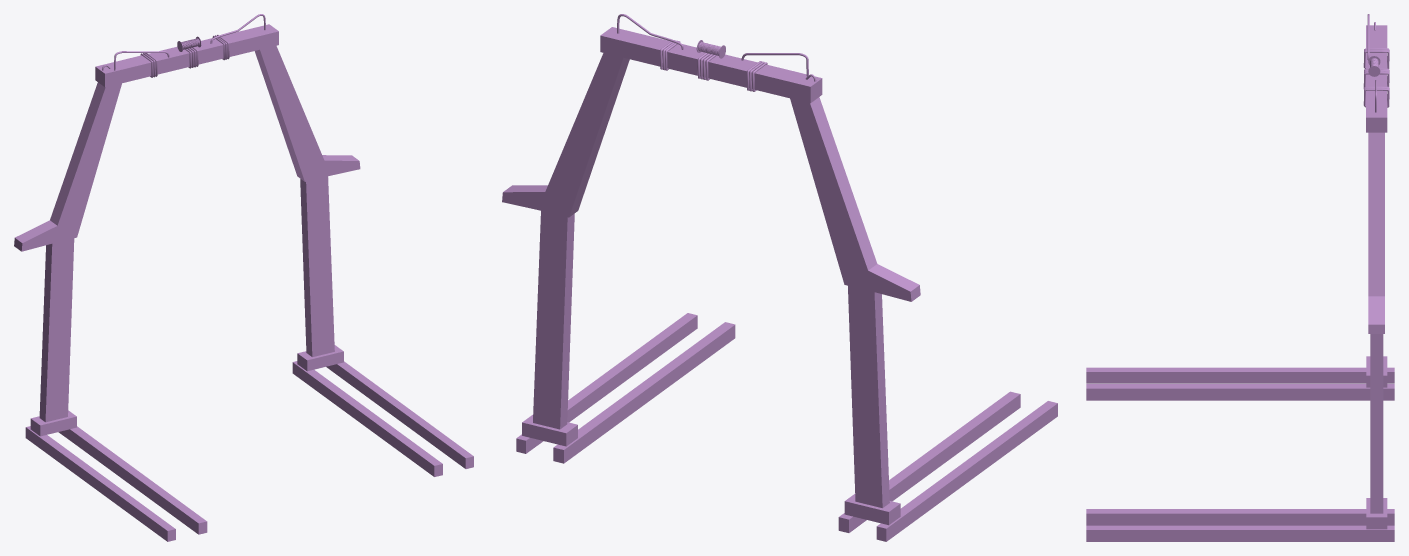
File: Requin.fbx
3 renders of one model, left to right at view 1: azimuth 30°, elevation 25°; view 2: azimuth 150°, elevation 25°; view 3: azimuth 270°, elevation 25°, orthographic. The views are drawn at different scales.
Parts seen in each view (by area): view 1: Box002; view 2: Box002; view 3: Box002.
Part boxes in pixels (box(x1,y1,x2,y2)): Box002: box(14, 14, 473, 541); Box002: box(502, 14, 1057, 541); Box002: box(1086, 14, 1394, 541).
Bounding box in the file's own units: 295986 × 313530 × 214775.
